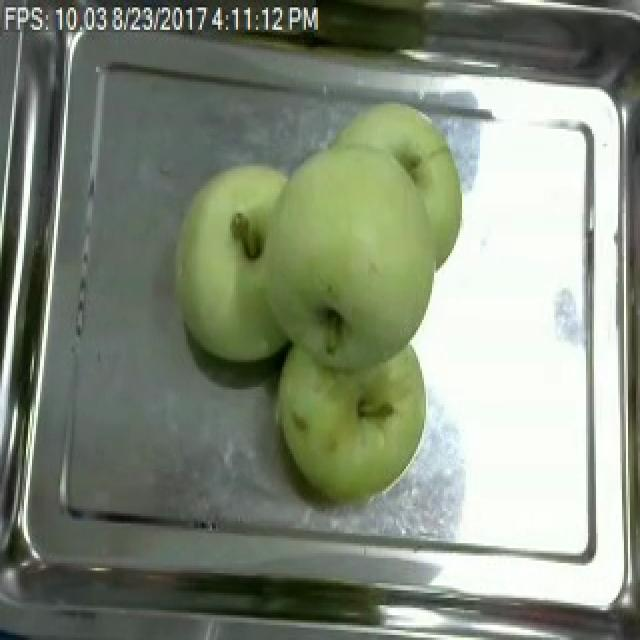50-_ripeness: (269, 146, 439, 370), (276, 320, 424, 506), (182, 165, 308, 349)
